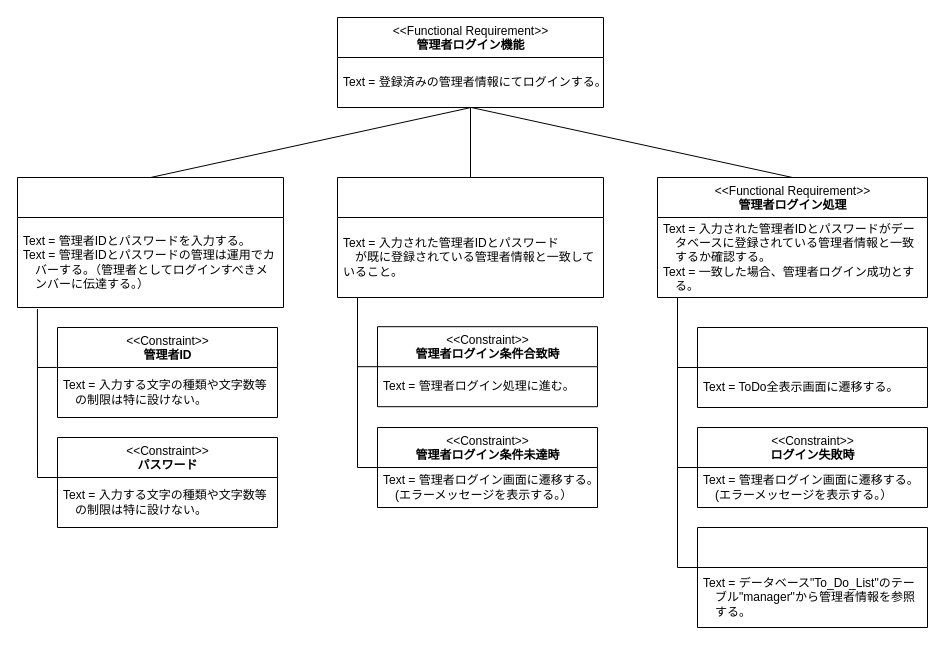
Image size: 945x645. Some labels were removed from this diagram. The box of each missing label's shape, as (x1, y1, x2, y2) in pixels:
<<Constraint>> 管理者ログイン成功時: (696, 326, 928, 408)
<<Constraint>> 管理者情報の参照先: (696, 526, 928, 628)
<<Functional Requirement>> 入力内容: (16, 176, 284, 308)
<<Functional Requirement>> 管理者ログイン条件: (336, 176, 604, 298)
